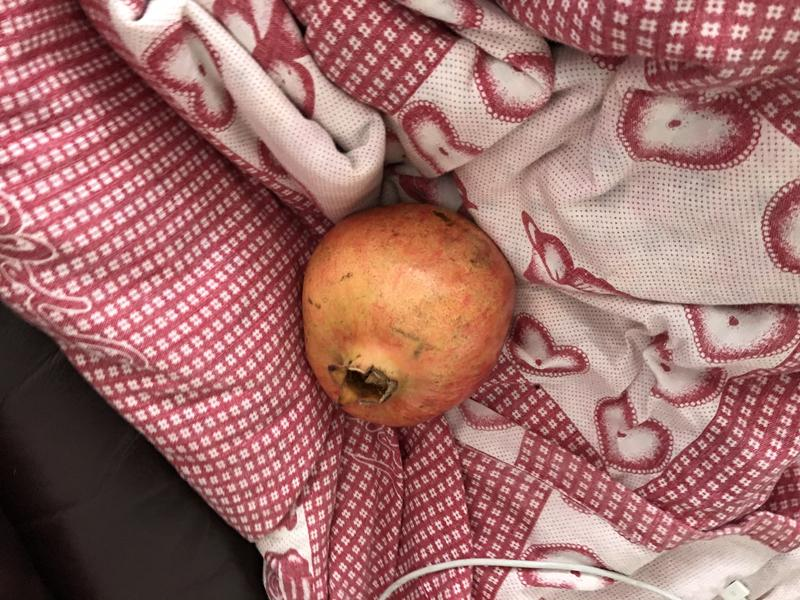pomegranate: (285, 187, 526, 447)
